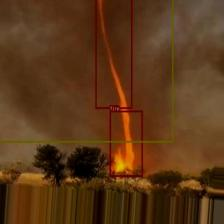fire: (95, 0, 132, 108), (110, 110, 142, 176)
smoke: (0, 0, 173, 142)
